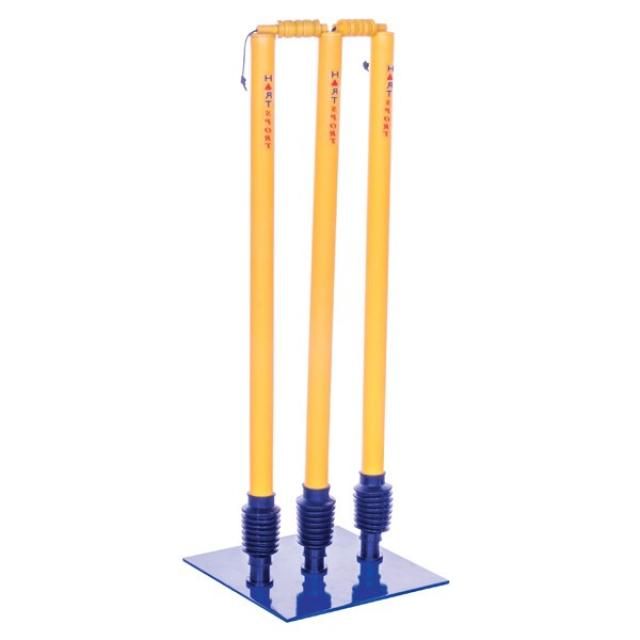stump: (242, 18, 392, 580)
